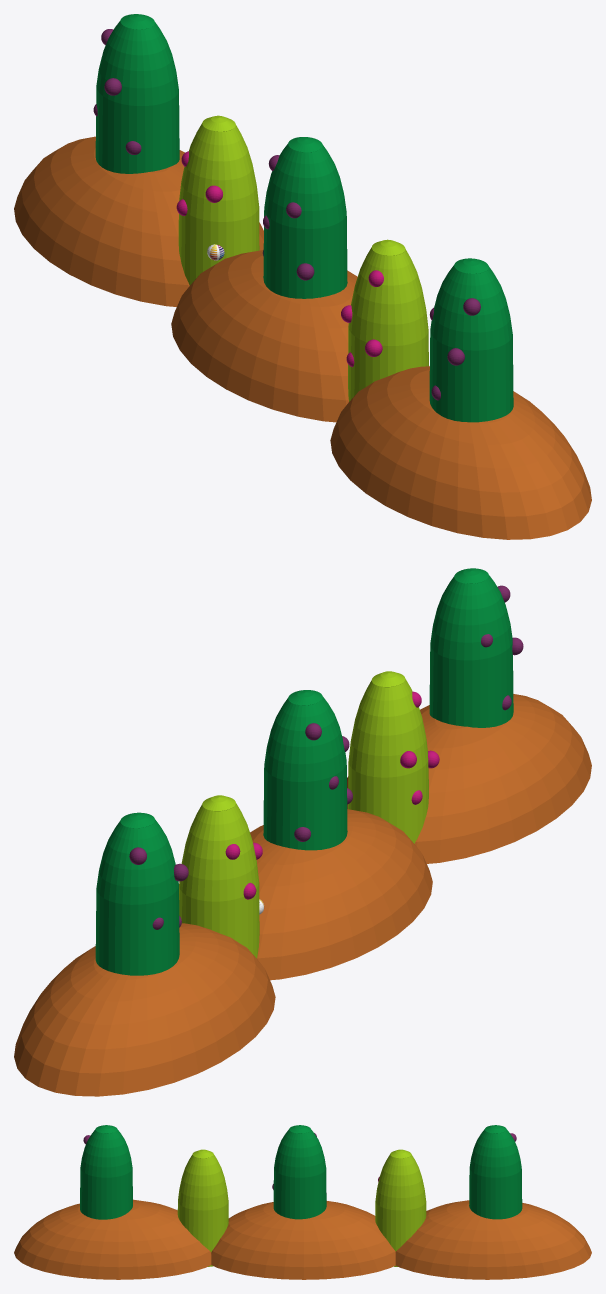
The model's file is Cactus.fbx.
3 renders of one model, top to bottom at view 1: azimuth 30°, elevation 25°; view 2: azimuth 150°, elevation 25°; view 3: azimuth 270°, elevation 25°, orthographic. The views are drawn at different scales.
Visible parts, largest first — view 1: Sphere.006; view 2: Sphere.006; view 3: Sphere.006.
Boxes of the visible parts, x1,y1,x2,y2 form: Sphere.006: (14,14,591,539); Sphere.006: (14,568,591,1096); Sphere.006: (14,1125,591,1279).
Bounding box in the file's own units: 147 × 166 × 661.
1 material, 1 textured.
